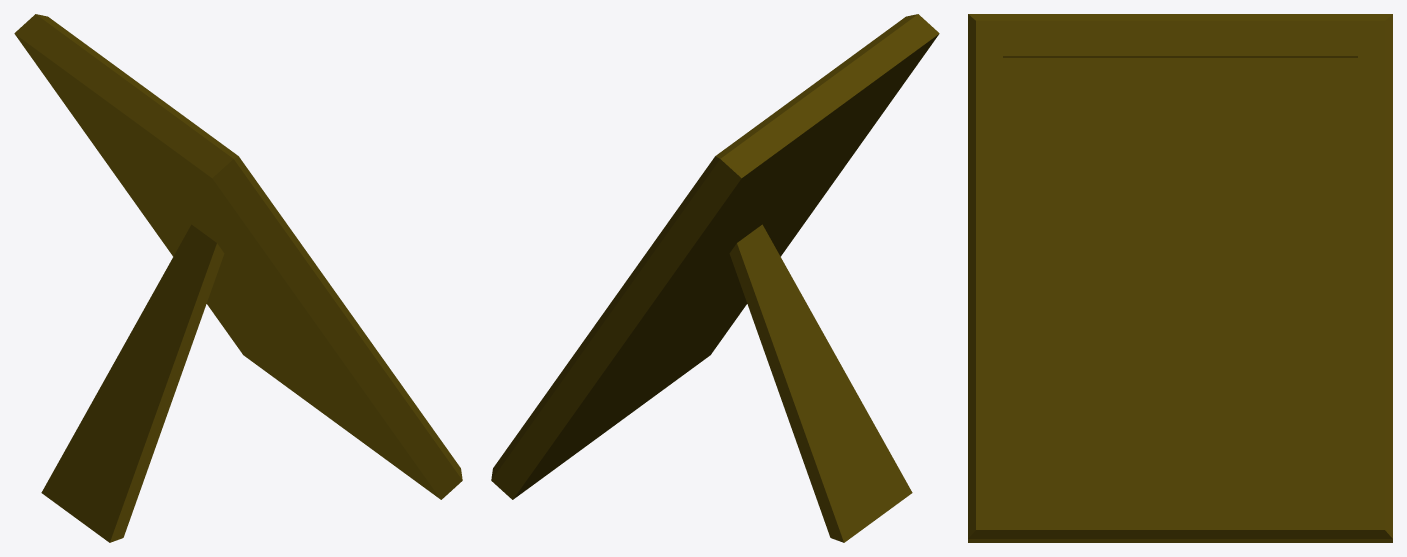
File: MarcoMesa.fbx
3 views of the same model, side by side, from view 1: azimuth 30°, elevation 25°; view 2: azimuth 150°, elevation 25°; view 3: azimuth 270°, elevation 25° (orthographic). The views are drawn at different scales.
Visible parts, largest first — view 1: Marco; view 2: Marco; view 3: Marco.
Part boxes in pixels (x1,y1,x2,y2): Marco: [14, 14, 462, 542]; Marco: [491, 14, 939, 542]; Marco: [968, 14, 1392, 542].
Size of the model in its own units: 0.2005 by 0.2755 by 0.2371.
